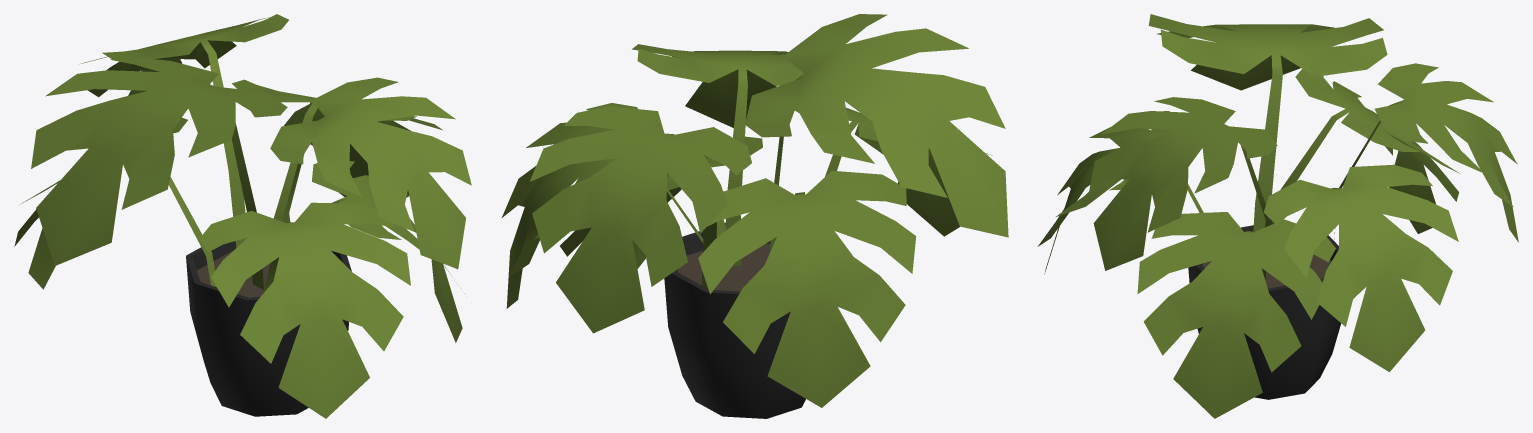
File: houseplant_a.fbx
3 views of the same model, side by side, from view 1: azimuth 30°, elevation 25°; view 2: azimuth 150°, elevation 25°; view 3: azimuth 270°, elevation 25° (orthographic). The views are drawn at different scales.
Visible parts, largest first — view 1: Houseplant_7; view 2: Houseplant_7; view 3: Houseplant_7.
Boxes of the visible parts, x1,y1,x2,y2 form: Houseplant_7: [14, 14, 471, 418]; Houseplant_7: [501, 14, 1008, 418]; Houseplant_7: [1037, 14, 1518, 418].
Bounding box in the file's own units: 0.9559 × 0.7228 × 1.
